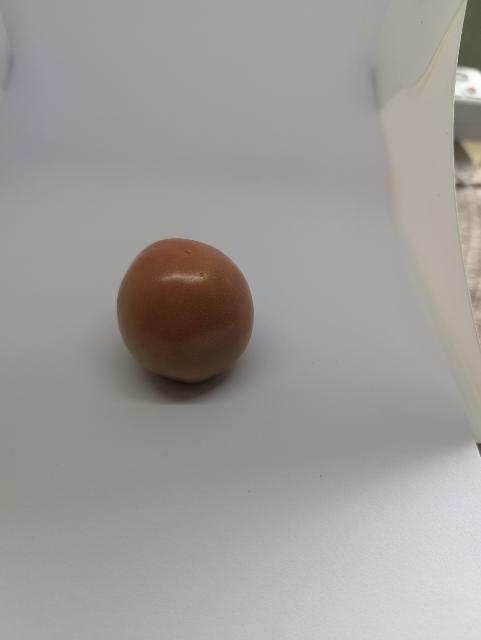red: (109, 227, 264, 389)
